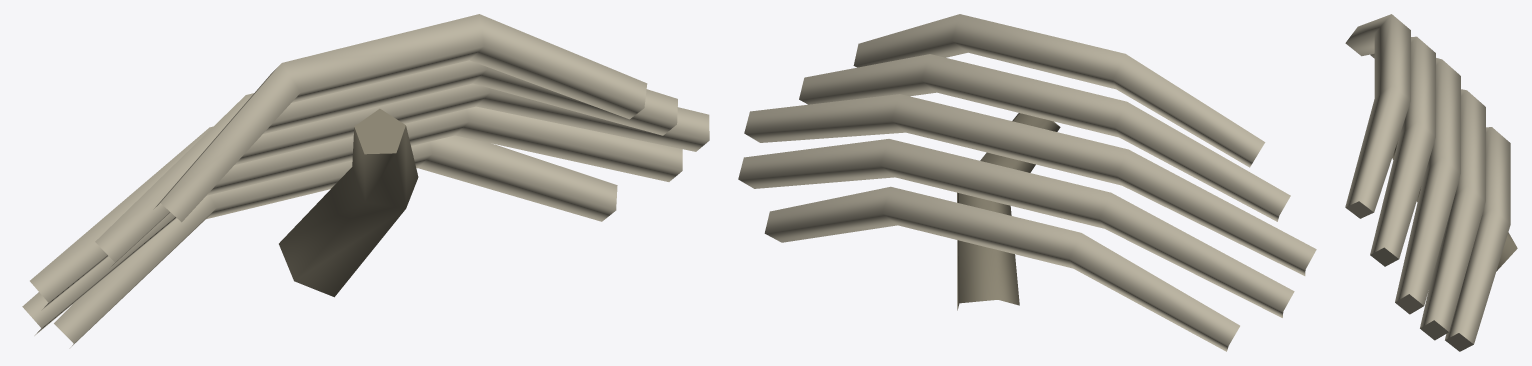
The model's file is land-forest-38.glb.
3 views of the same model, side by side, from view 1: azimuth 30°, elevation 25°; view 2: azimuth 150°, elevation 25°; view 3: azimuth 270°, elevation 25° (orthographic). The views are drawn at different scales.
Parts seen in each view (by area): view 1: land.forest.38; view 2: land.forest.38; view 3: land.forest.38.
Boxes of the visible parts, x1=… form: land.forest.38: x1=22, y1=14, x2=709, y2=348; land.forest.38: x1=738, y1=14, x2=1316, y2=351; land.forest.38: x1=1345, y1=14, x2=1517, y2=351.
Size of the model in its own units: 1.31 by 0.5507 by 0.394.
